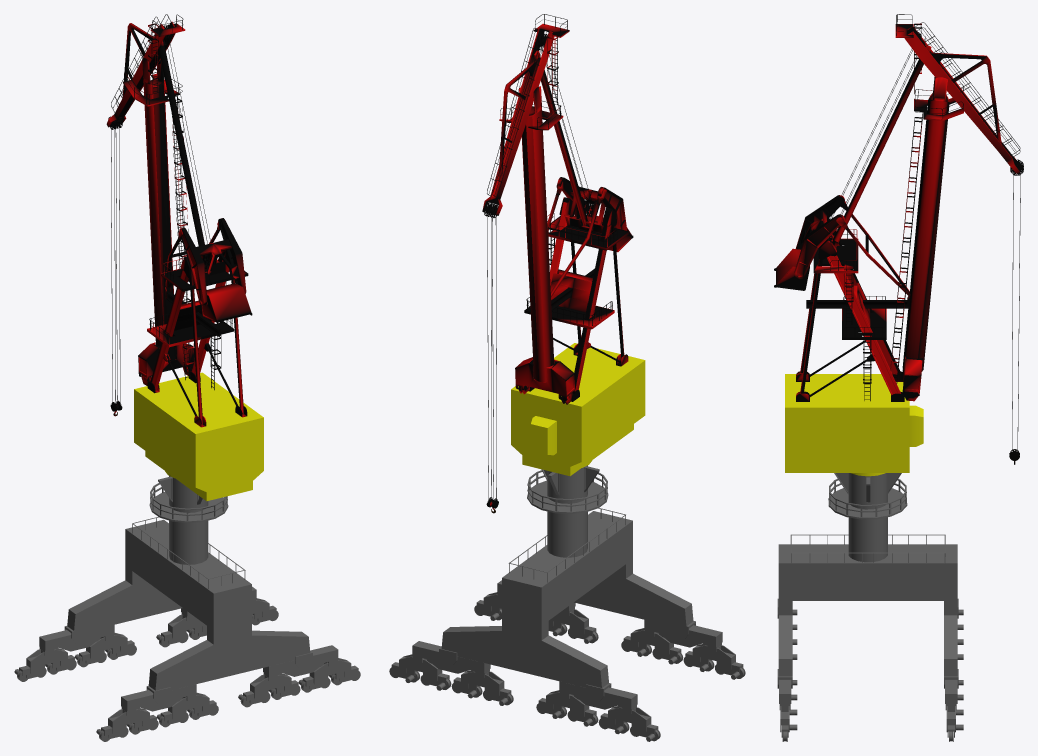
Rendered from ShipyardCrane.fbx.
3 views of the same model, side by side, from view 1: azimuth 30°, elevation 25°; view 2: azimuth 150°, elevation 25°; view 3: azimuth 270°, elevation 25° (orthographic). The views are drawn at different scales.
Visible parts, largest first — view 1: ShipyardCrane_Bottom_01_Prefab_snaps017, ShipyardCrane_Top_01_Prefab_snaps017, ShipyardCrane_Cabin_01_Prefab_snaps017, ShipyardCrane_Front_01_Prefab_snaps017, ShipyardCrane_Shaft_01_Prefab_snaps017, GantryCrane_01_Traction_01_Prefab_snaps017_3, GantryCrane_01_Traction_01_Prefab_snaps017_2, GantryCrane_01_Traction_01_Prefab_snaps017, GantryCrane_01_Traction_01_Prefab_snaps017_1; view 2: ShipyardCrane_Bottom_01_Prefab_snaps017, ShipyardCrane_Front_01_Prefab_snaps017, ShipyardCrane_Cabin_01_Prefab_snaps017, ShipyardCrane_Top_01_Prefab_snaps017, ShipyardCrane_Shaft_01_Prefab_snaps017, GantryCrane_01_Traction_01_Prefab_snaps017_2, GantryCrane_01_Traction_01_Prefab_snaps017_1, GantryCrane_01_Traction_01_Prefab_snaps017_3, GantryCrane_01_Traction_01_Prefab_snaps017; view 3: ShipyardCrane_Front_01_Prefab_snaps017, ShipyardCrane_Top_01_Prefab_snaps017, ShipyardCrane_Bottom_01_Prefab_snaps017, ShipyardCrane_Cabin_01_Prefab_snaps017, ShipyardCrane_Shaft_01_Prefab_snaps017, GantryCrane_01_Traction_01_Prefab_snaps017, GantryCrane_01_Traction_01_Prefab_snaps017_1.
Boxes of the visible parts, left/top/right/bottom form: ShipyardCrane_Bottom_01_Prefab_snaps017: left=67, top=517, right=310, bottom=690; ShipyardCrane_Top_01_Prefab_snaps017: left=147, top=36, right=252, bottom=427; ShipyardCrane_Cabin_01_Prefab_snaps017: left=134, top=372, right=263, bottom=501; ShipyardCrane_Front_01_Prefab_snaps017: left=106, top=14, right=194, bottom=416; ShipyardCrane_Shaft_01_Prefab_snaps017: left=149, top=476, right=228, bottom=564; GantryCrane_01_Traction_01_Prefab_snaps017_3: left=96, top=684, right=218, bottom=741; GantryCrane_01_Traction_01_Prefab_snaps017_2: left=14, top=624, right=136, bottom=681; GantryCrane_01_Traction_01_Prefab_snaps017: left=238, top=645, right=360, bottom=707; GantryCrane_01_Traction_01_Prefab_snaps017_1: left=156, top=586, right=278, bottom=647; ShipyardCrane_Bottom_01_Prefab_snaps017: left=441, top=508, right=693, bottom=687; ShipyardCrane_Front_01_Prefab_snaps017: left=482, top=14, right=575, bottom=513; ShipyardCrane_Cabin_01_Prefab_snaps017: left=511, top=343, right=645, bottom=476; ShipyardCrane_Top_01_Prefab_snaps017: left=524, top=39, right=633, bottom=401; ShipyardCrane_Shaft_01_Prefab_snaps017: left=527, top=465, right=608, bottom=557; GantryCrane_01_Traction_01_Prefab_snaps017_2: left=536, top=681, right=660, bottom=741; GantryCrane_01_Traction_01_Prefab_snaps017_1: left=389, top=641, right=513, bottom=705; GantryCrane_01_Traction_01_Prefab_snaps017_3: left=621, top=619, right=745, bottom=679; GantryCrane_01_Traction_01_Prefab_snaps017: left=474, top=580, right=598, bottom=643; ShipyardCrane_Front_01_Prefab_snaps017: left=890, top=14, right=1023, bottom=464; ShipyardCrane_Top_01_Prefab_snaps017: left=774, top=36, right=931, bottom=401; ShipyardCrane_Bottom_01_Prefab_snaps017: left=778, top=534, right=957, bottom=679; ShipyardCrane_Cabin_01_Prefab_snaps017: left=785, top=374, right=923, bottom=476; ShipyardCrane_Shaft_01_Prefab_snaps017: left=828, top=473, right=907, bottom=562; GantryCrane_01_Traction_01_Prefab_snaps017: left=777, top=669, right=797, bottom=741; GantryCrane_01_Traction_01_Prefab_snaps017_1: left=944, top=669, right=963, bottom=741.
Bounding box in the file's own units: 2195 × 5245 × 1804.
